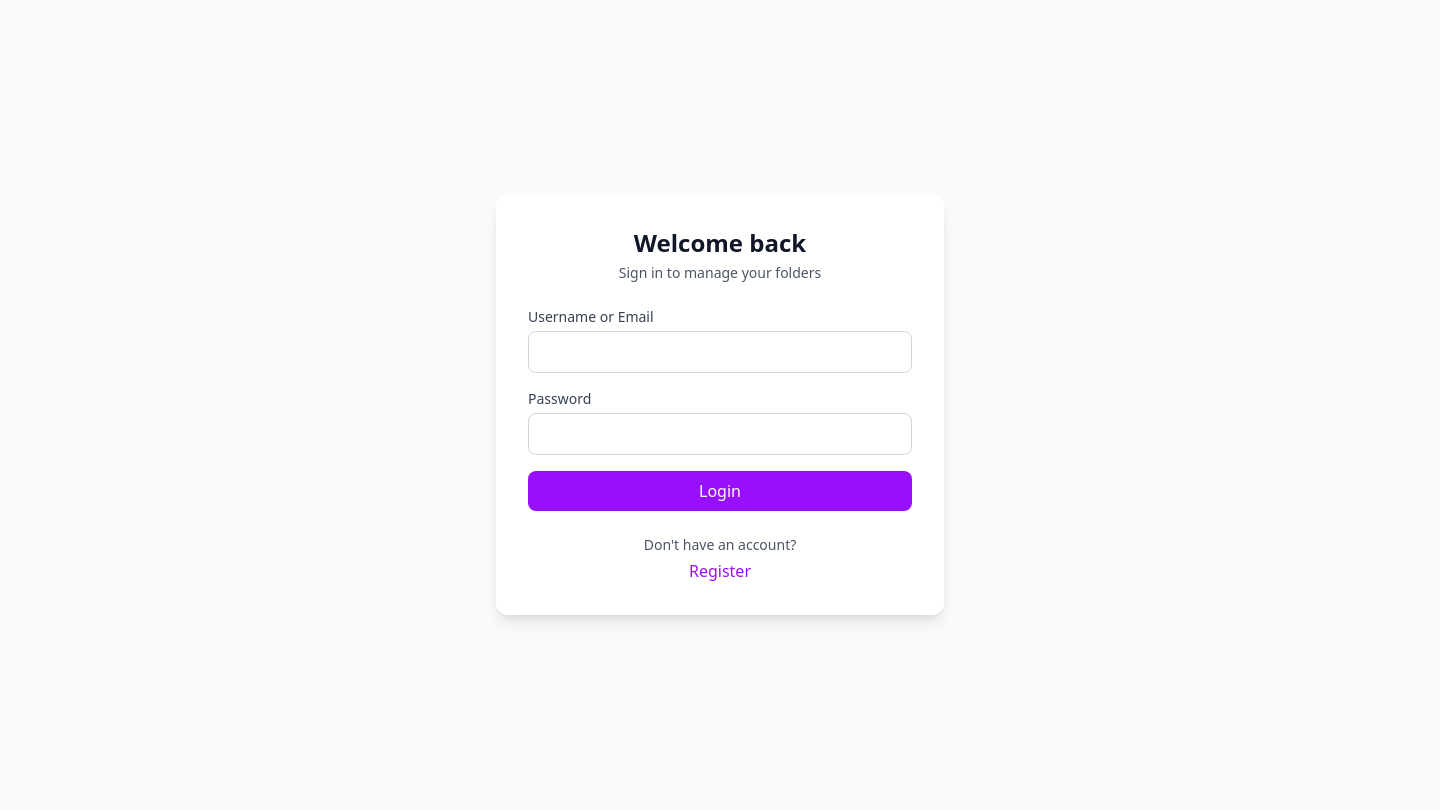
Test case: LoginView › opens the register modal when register button is clicked
What coordinates should you click on to do the following:
click the button "Register"
I would click on:
 (720, 571)
Its box is 689,559 -> 751,583.
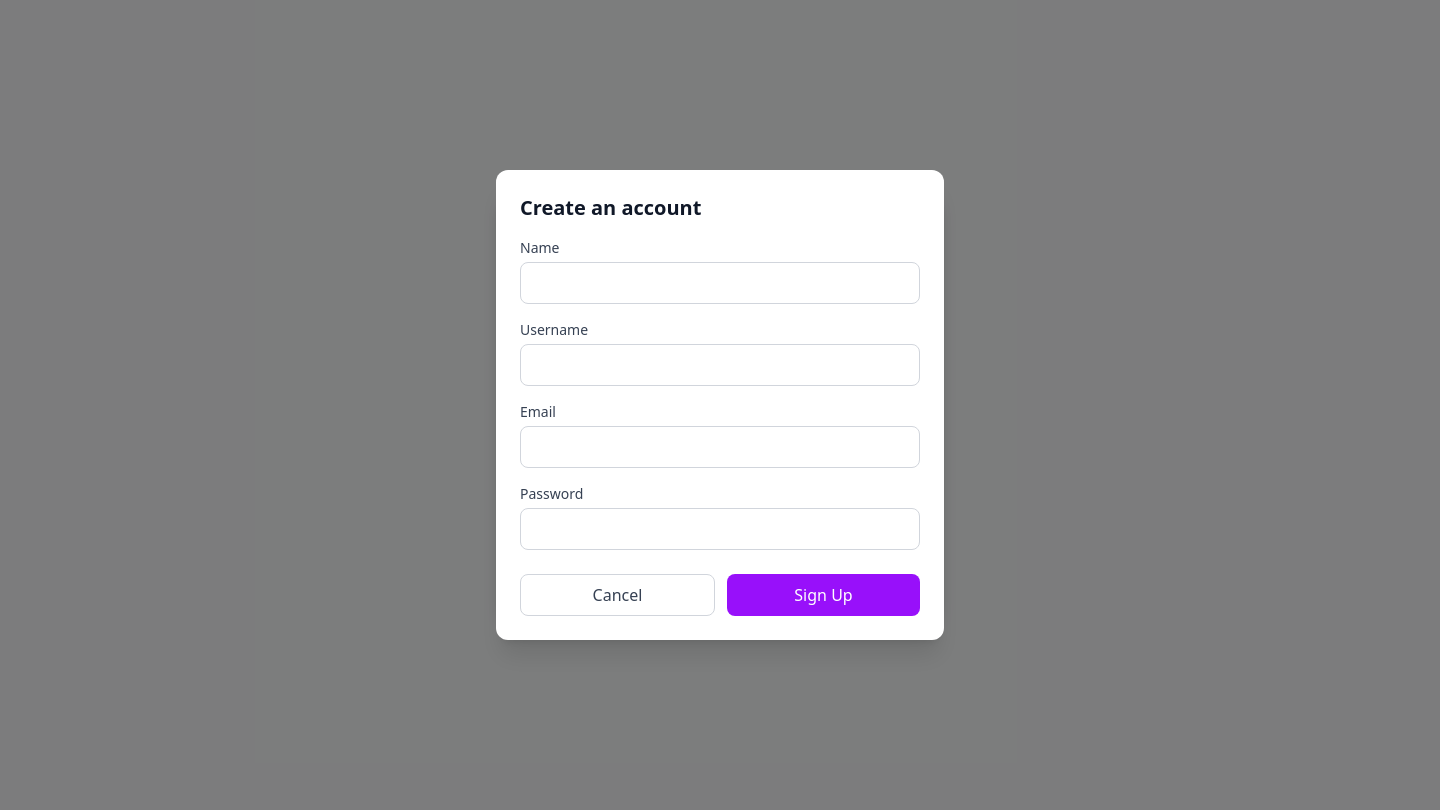
Expected: the text "Create an account" is shown, 520,194 -> 701,221
